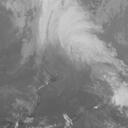cyclone: (45, 6, 112, 69)
